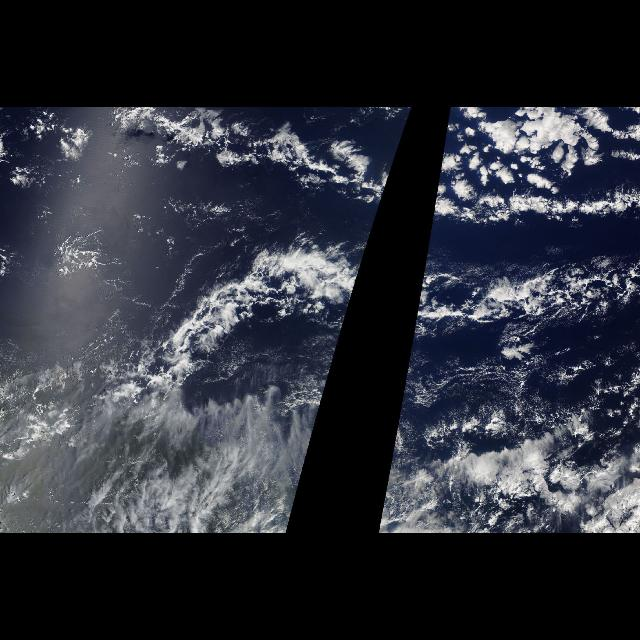Fish: (97, 108, 413, 374), (405, 108, 639, 374)
